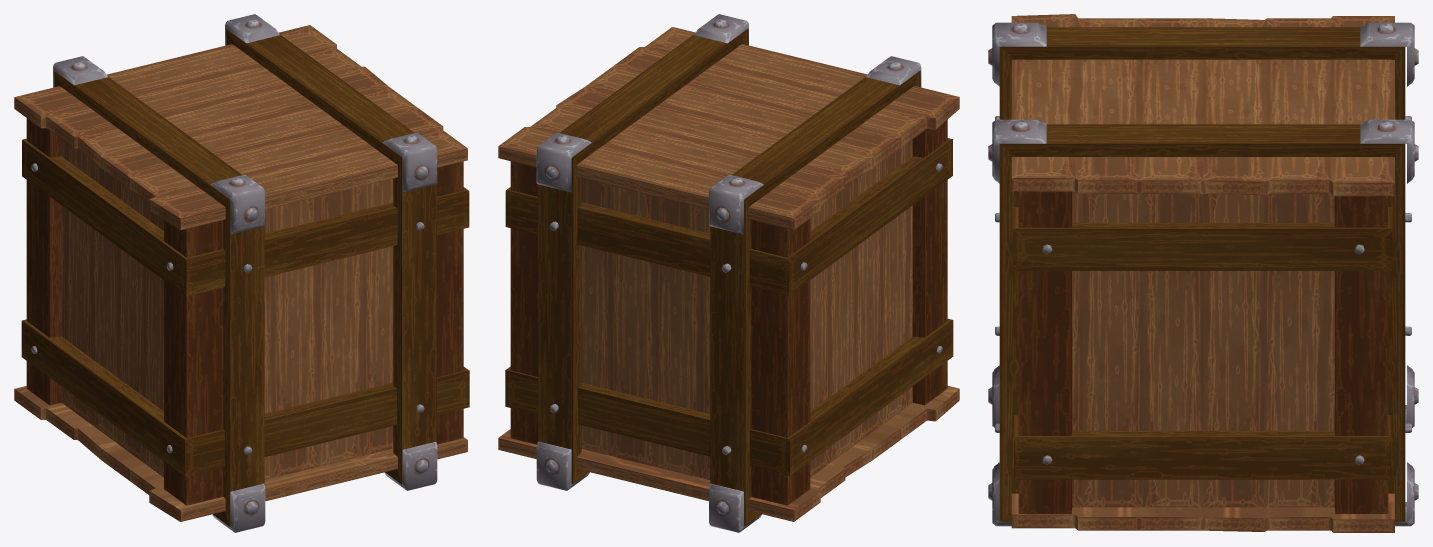
Rendered from Crate_Wooden.gltf.
3 views of the same model, side by side, from view 1: azimuth 30°, elevation 25°; view 2: azimuth 150°, elevation 25°; view 3: azimuth 270°, elevation 25° (orthographic). The views are drawn at different scales.
Parts seen in each view (by area): view 1: Crate_Wooden; view 2: Crate_Wooden; view 3: Crate_Wooden.
Boxes of the visible parts, x1=… form: Crate_Wooden: x1=14, y1=14, x2=469, y2=532; Crate_Wooden: x1=498, y1=14, x2=959, y2=532; Crate_Wooden: x1=988, y1=14, x2=1418, y2=532.
Bounding box in the file's own units: 0.8423 × 0.9309 × 0.9083.
2 materials, 2 textured.
